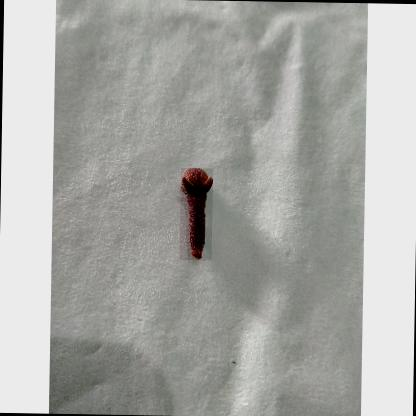baik: (181, 169, 212, 260)
